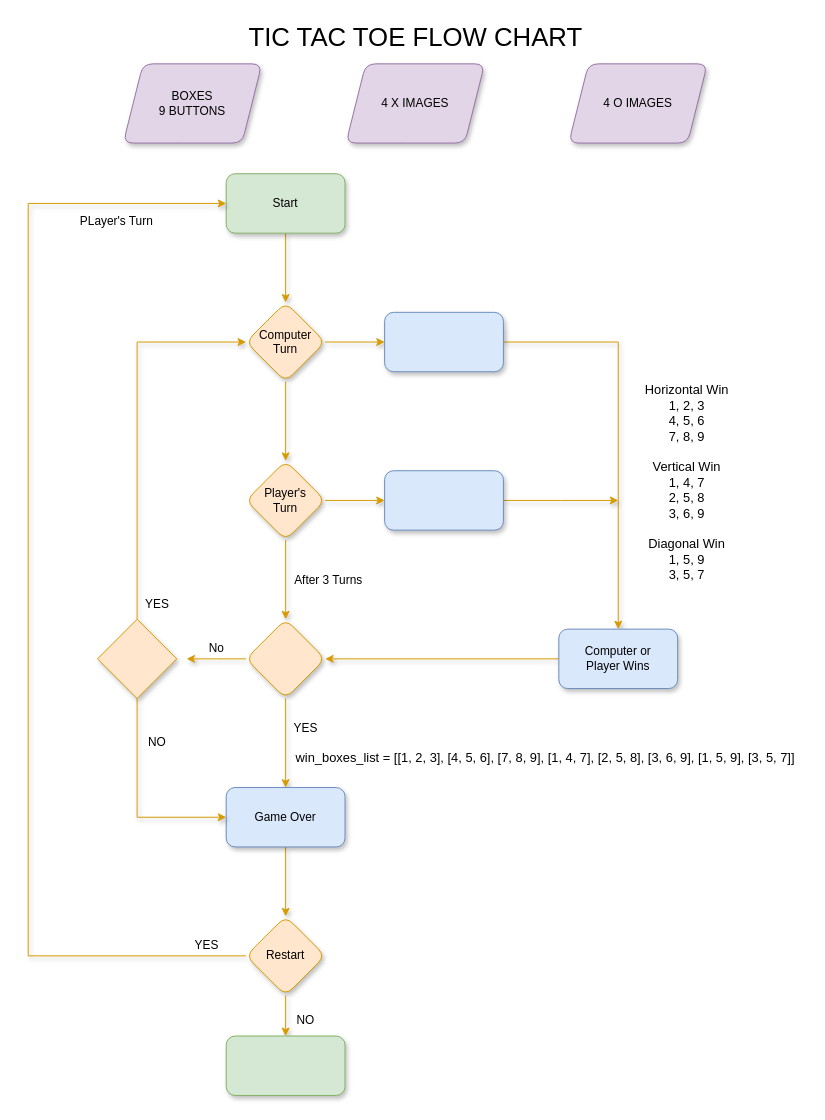
The diagram is 825 pixels wide and 1120 high, and some of its shapes have lost their labels. The centre of each missing label's shape, as x and y in pixels:
"End" goes at (x=286, y=1066).
"Move Left" goes at (x=138, y=659).
"Play O" goes at (x=444, y=501).
"Play X" goes at (x=444, y=343).
"Win" goes at (x=286, y=659).
